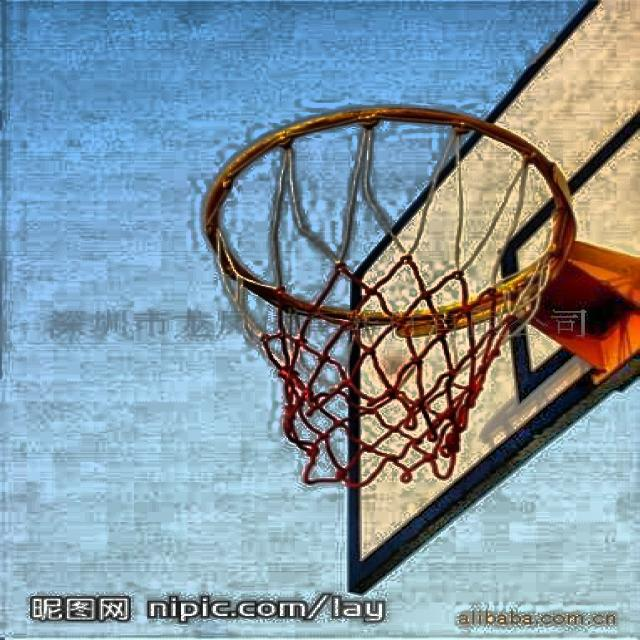rim: (201, 109, 575, 478)
